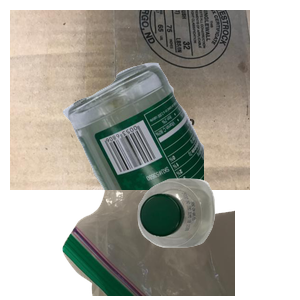cardboard: (10, 10, 250, 190)
glass: (60, 60, 300, 240)
plastic: (135, 176, 300, 300)
trash: (60, 120, 300, 300)
